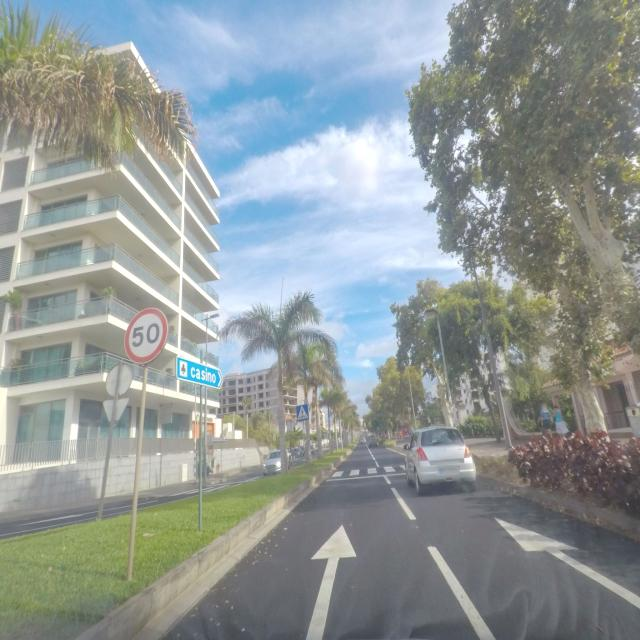car: (403, 425, 477, 495), (262, 449, 292, 477), (291, 446, 305, 460), (367, 435, 378, 449)
